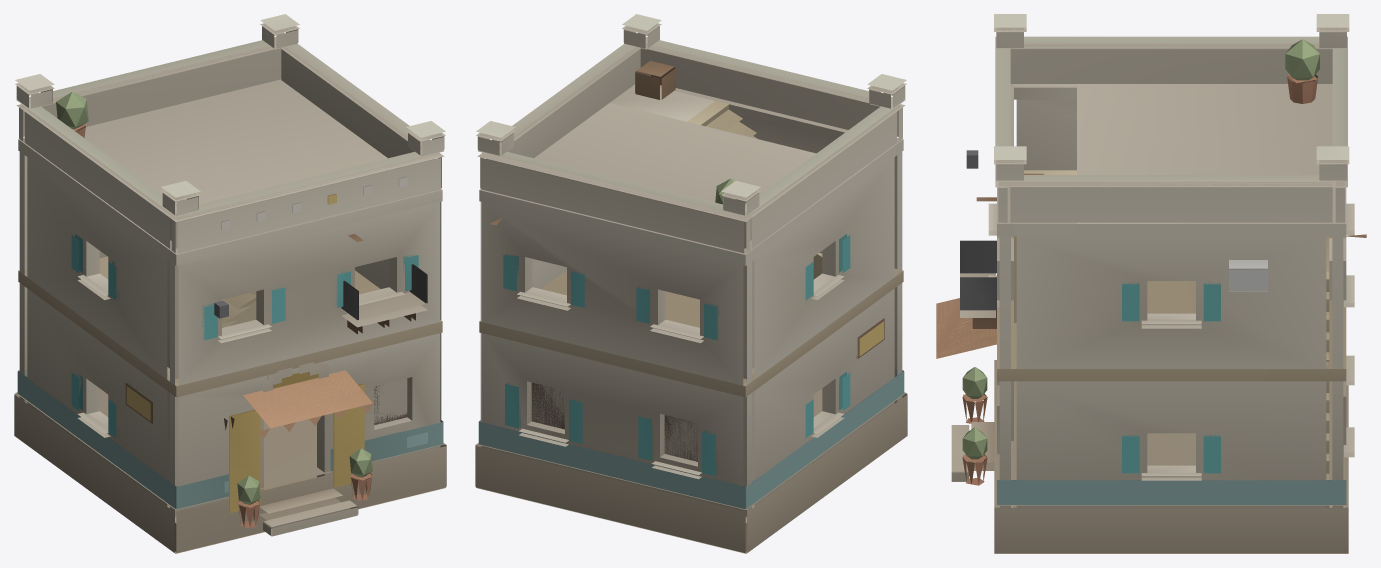
File: house_5.lod.glb
3 renders of one model, left to right at view 1: azimuth 30°, elevation 25°; view 2: azimuth 150°, elevation 25°; view 3: azimuth 270°, elevation 25°, orthographic. The views are drawn at different scales.
Visible parts, largest first — view 1: house_5; view 2: house_5; view 3: house_5.
Part boxes in pixels (bbox=[...]): house_5: bbox=[14, 14, 446, 553]; house_5: bbox=[475, 14, 907, 553]; house_5: bbox=[936, 14, 1366, 553].
Size of the model in its own units: 7.63 by 8.96 by 8.87.
